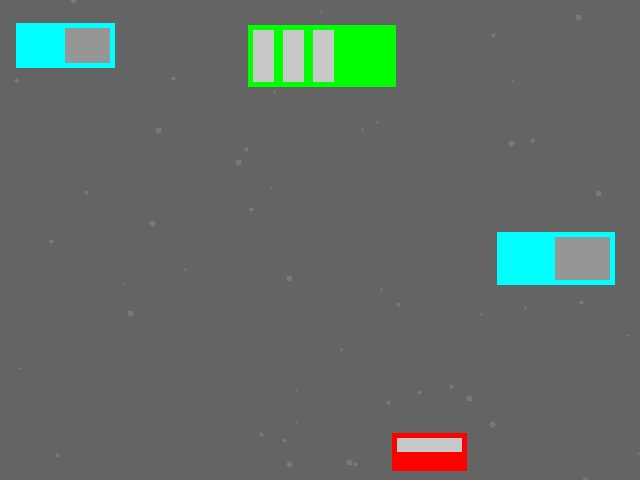bus: (248, 25, 395, 86)
car: (392, 433, 466, 470)
truck: (497, 232, 614, 284), (16, 23, 114, 67)
